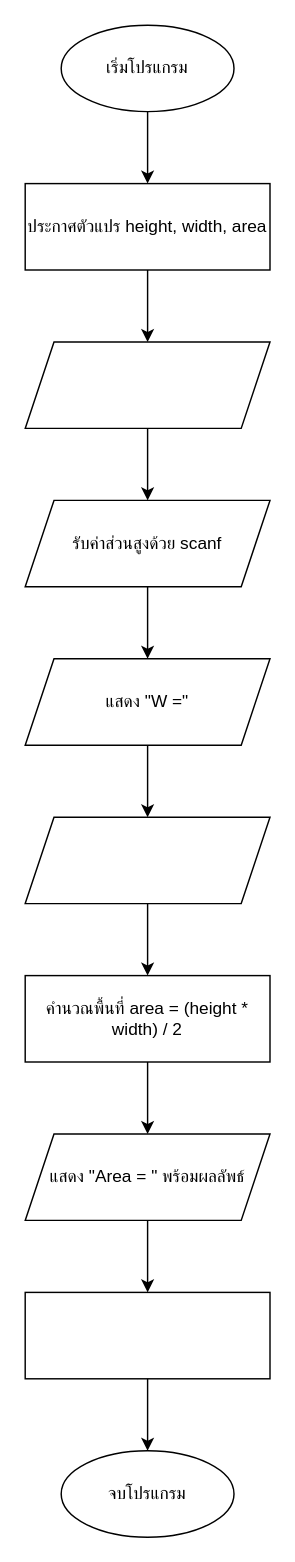
This 295x1562 diagram has some shape labels left out. Here are the shapes that lost their labels. From the top down, the centre of each, then its label:
(147,384): แสดง "H ="
(147,860): รับค่าฐานด้วย scanf
(147,1335): return 0
